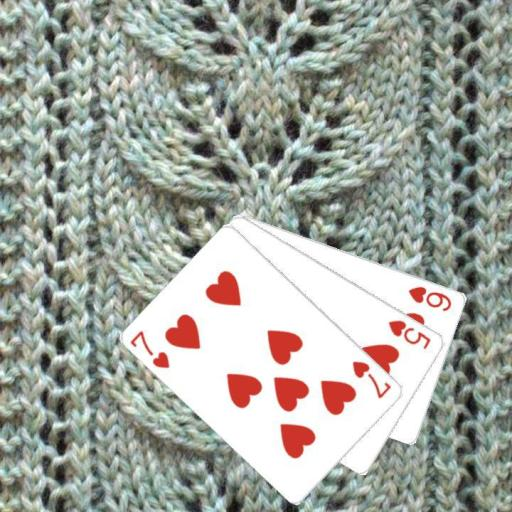5H: (385, 317, 433, 352)
6H: (405, 282, 454, 313)
7H: (127, 327, 172, 370), (349, 358, 393, 400)
